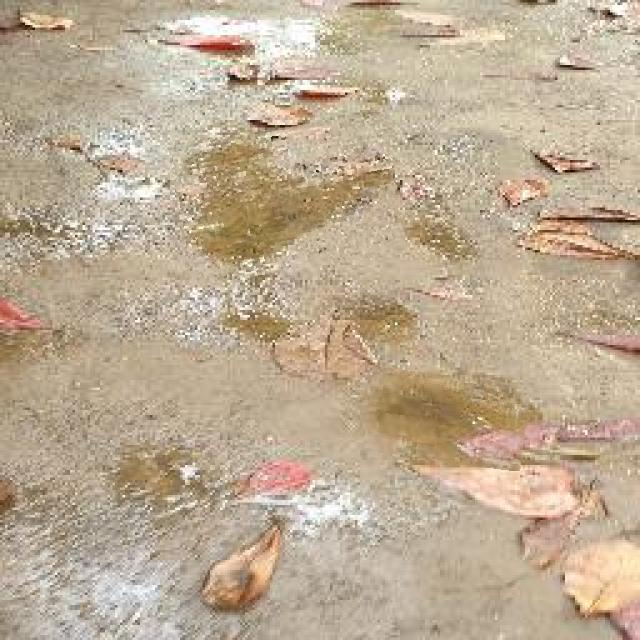puddle: (173, 121, 403, 279), (366, 372, 529, 468)
